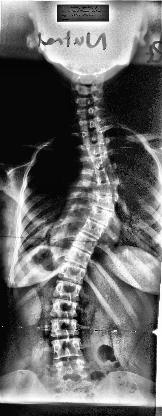Vertebrae: (59, 262, 91, 288), (51, 362, 89, 382), (48, 318, 82, 340), (48, 340, 84, 360), (55, 280, 83, 304), (51, 298, 81, 320), (66, 248, 95, 270), (83, 219, 107, 244), (72, 231, 96, 253), (94, 194, 118, 212), (81, 130, 107, 146), (88, 207, 112, 224), (88, 154, 110, 170), (93, 168, 111, 184), (95, 182, 115, 196), (86, 144, 107, 156)
